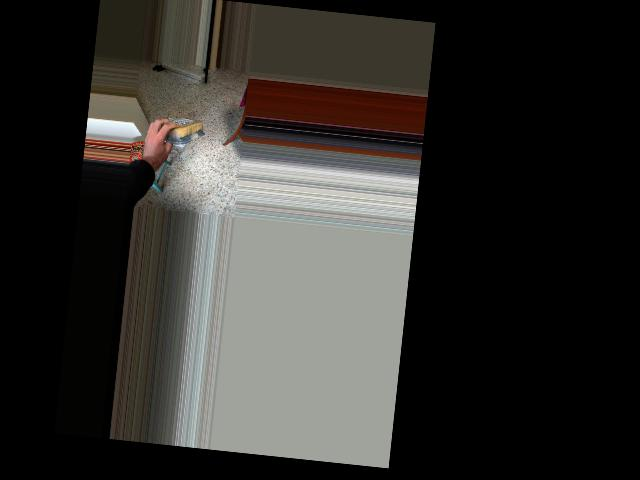cheese: (158, 115, 206, 143)
